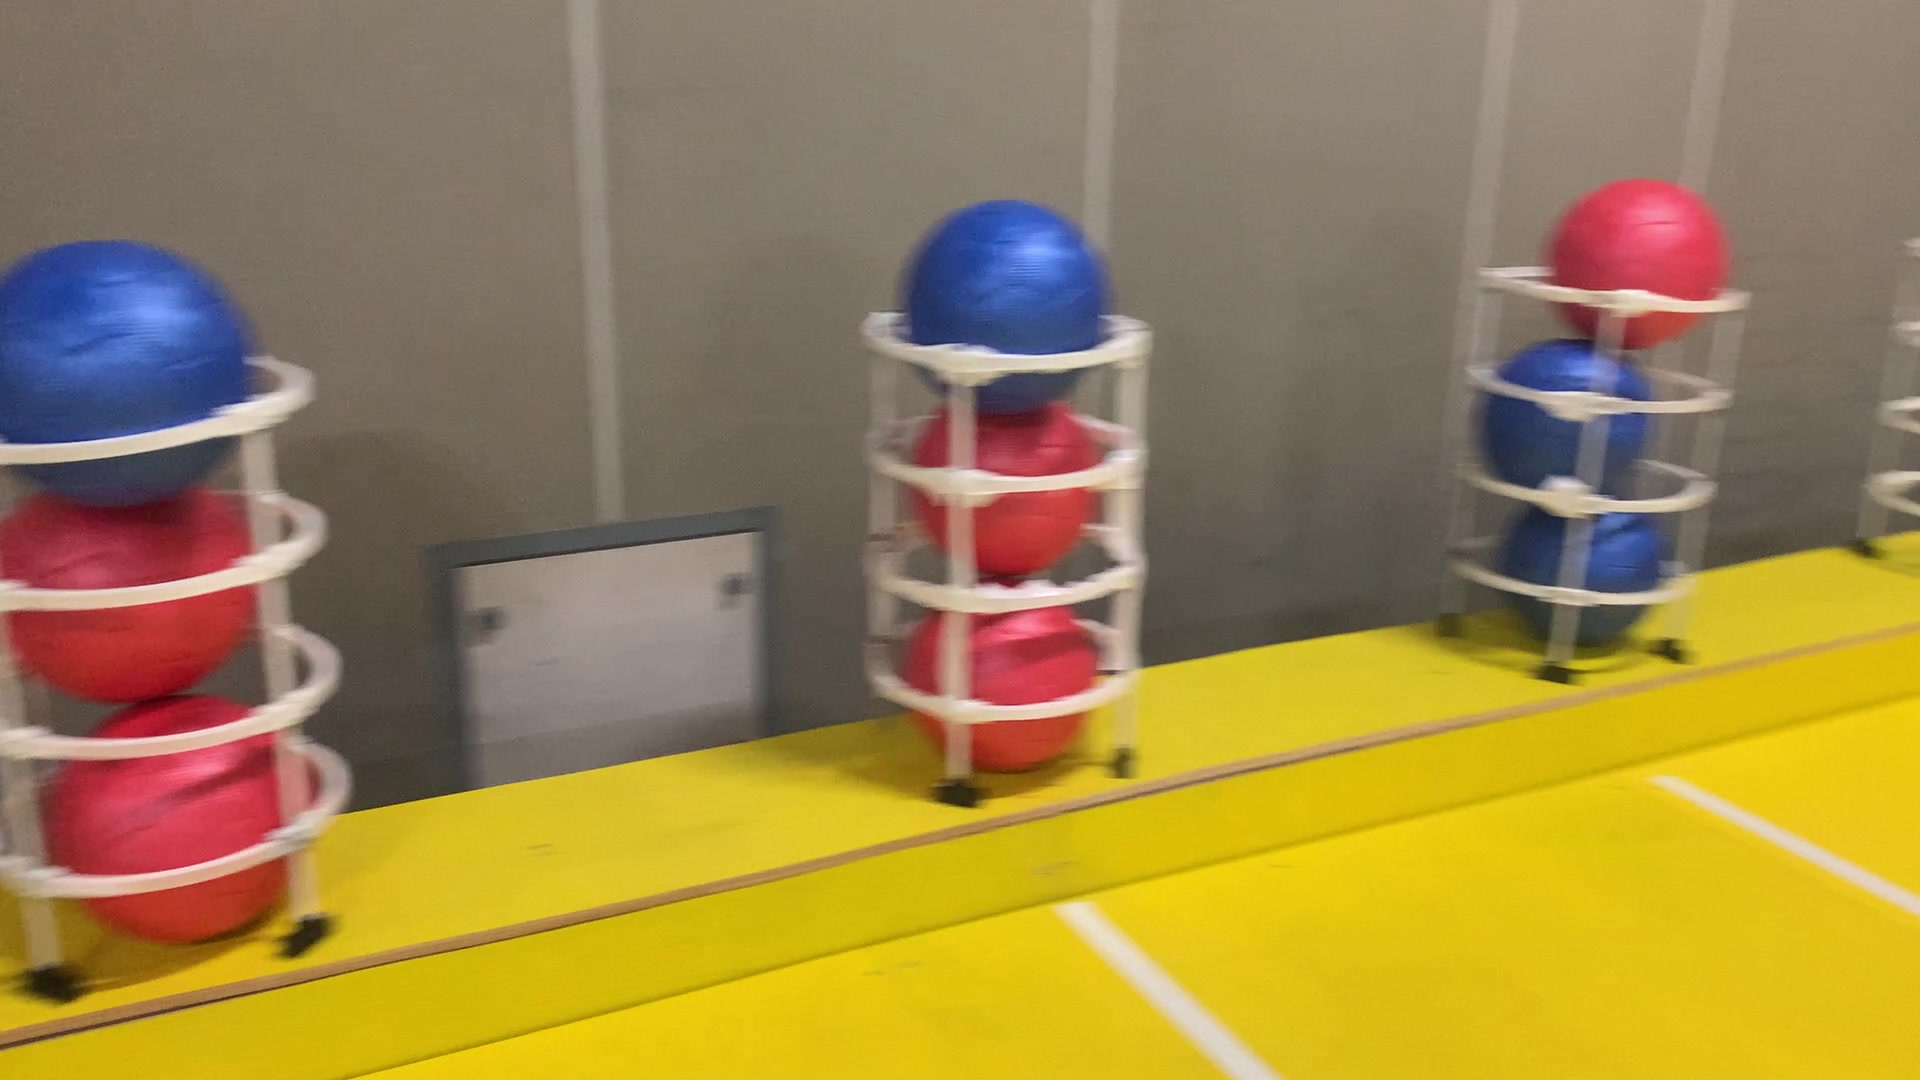blue: (0, 225, 248, 496), (891, 191, 1120, 418), (1484, 327, 1656, 498), (1499, 483, 1672, 653)
red: (32, 684, 316, 957), (0, 459, 266, 724), (890, 593, 1108, 781), (907, 389, 1101, 580), (1549, 170, 1729, 355)
